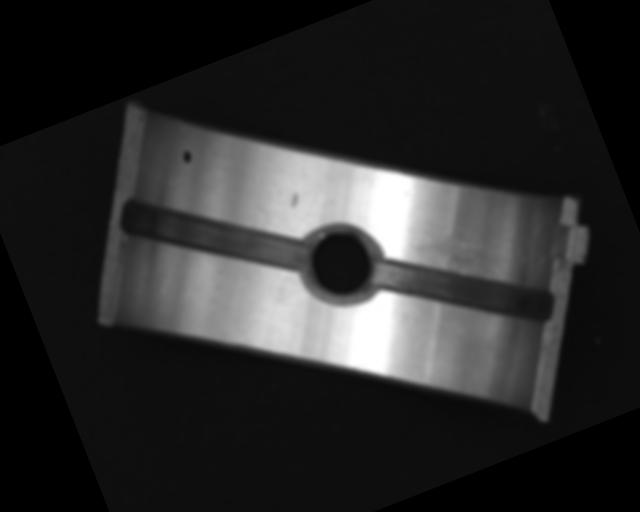blot: (180, 149, 194, 166)
bruise: (287, 192, 303, 209)
gap: (120, 150, 309, 322), (370, 210, 558, 376)
hole: (290, 213, 392, 317)
scratch: (404, 210, 512, 304)
